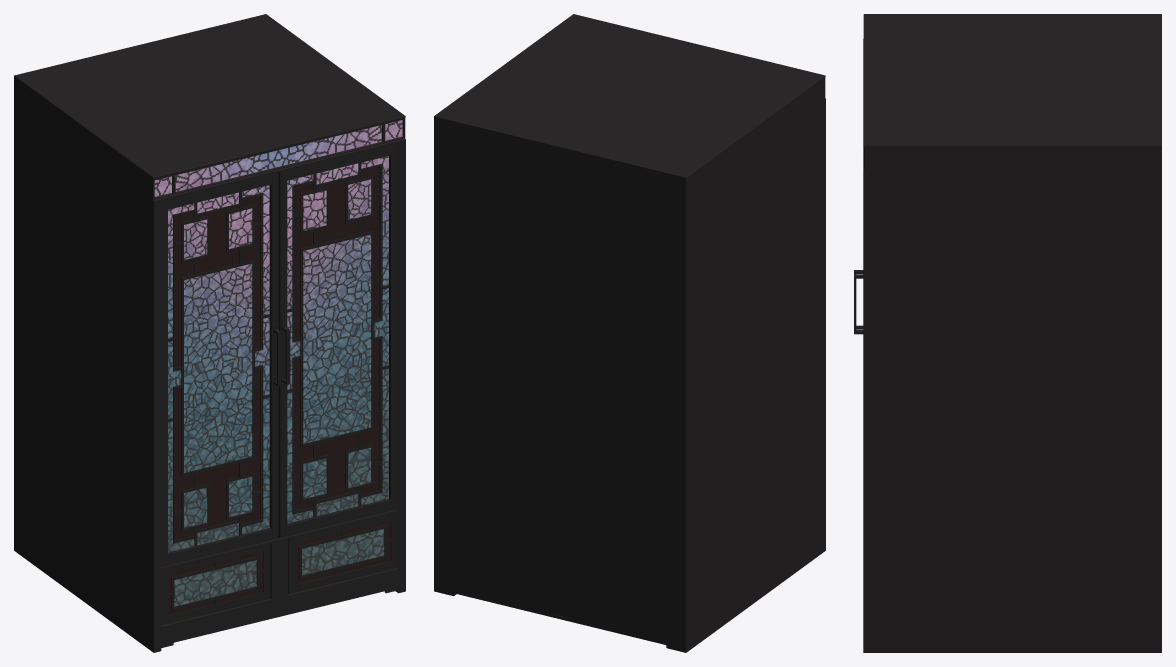
Rendered from cabinet.fbx.
3 views of the same model, side by side, from view 1: azimuth 30°, elevation 25°; view 2: azimuth 150°, elevation 25°; view 3: azimuth 270°, elevation 25° (orthographic). The views are drawn at different scales.
Parts seen in each view (by area): view 1: cabinet_Main, cabinet_Door, cabinet; view 2: cabinet_Main; view 3: cabinet_Main.
Boxes of the visible parts, bbox=[...] form: cabinet_Main: bbox=[14, 14, 405, 652]; cabinet_Door: bbox=[161, 143, 397, 567]; cabinet: bbox=[161, 513, 397, 625]; cabinet_Main: bbox=[434, 14, 825, 652]; cabinet_Main: bbox=[863, 14, 1161, 652].
Size of the model in its own units: 100 by 180 by 98.86.
1 material, 1 textured.
